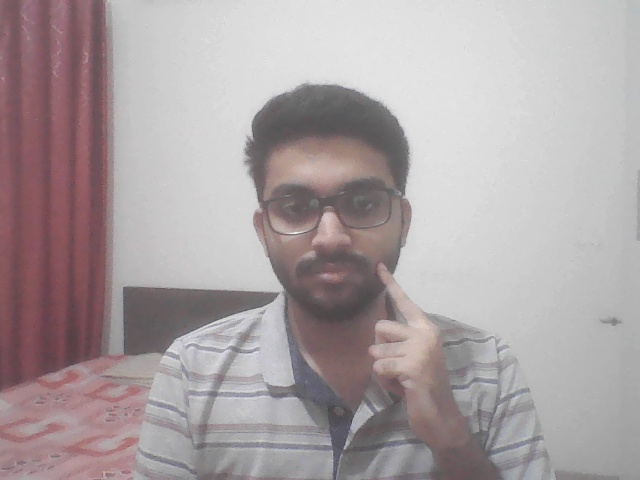deaf: (343, 250, 493, 469)
